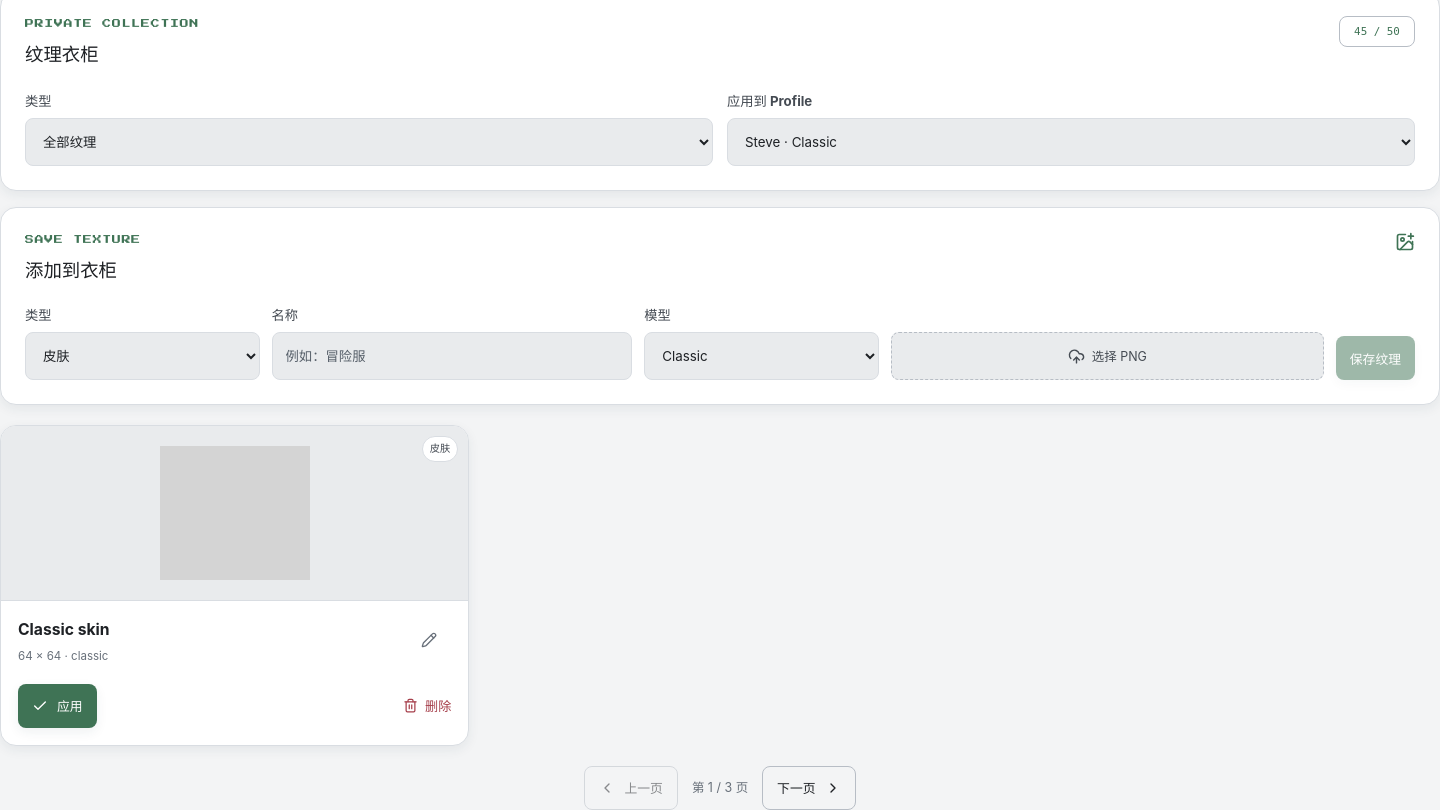
Test: WardrobeView › refreshes the current page after deleting from the middle of a three-page collection
(page scrolled)
Click the button "下一页" at (809, 788), box x1=762 y1=766 x2=856 y2=809
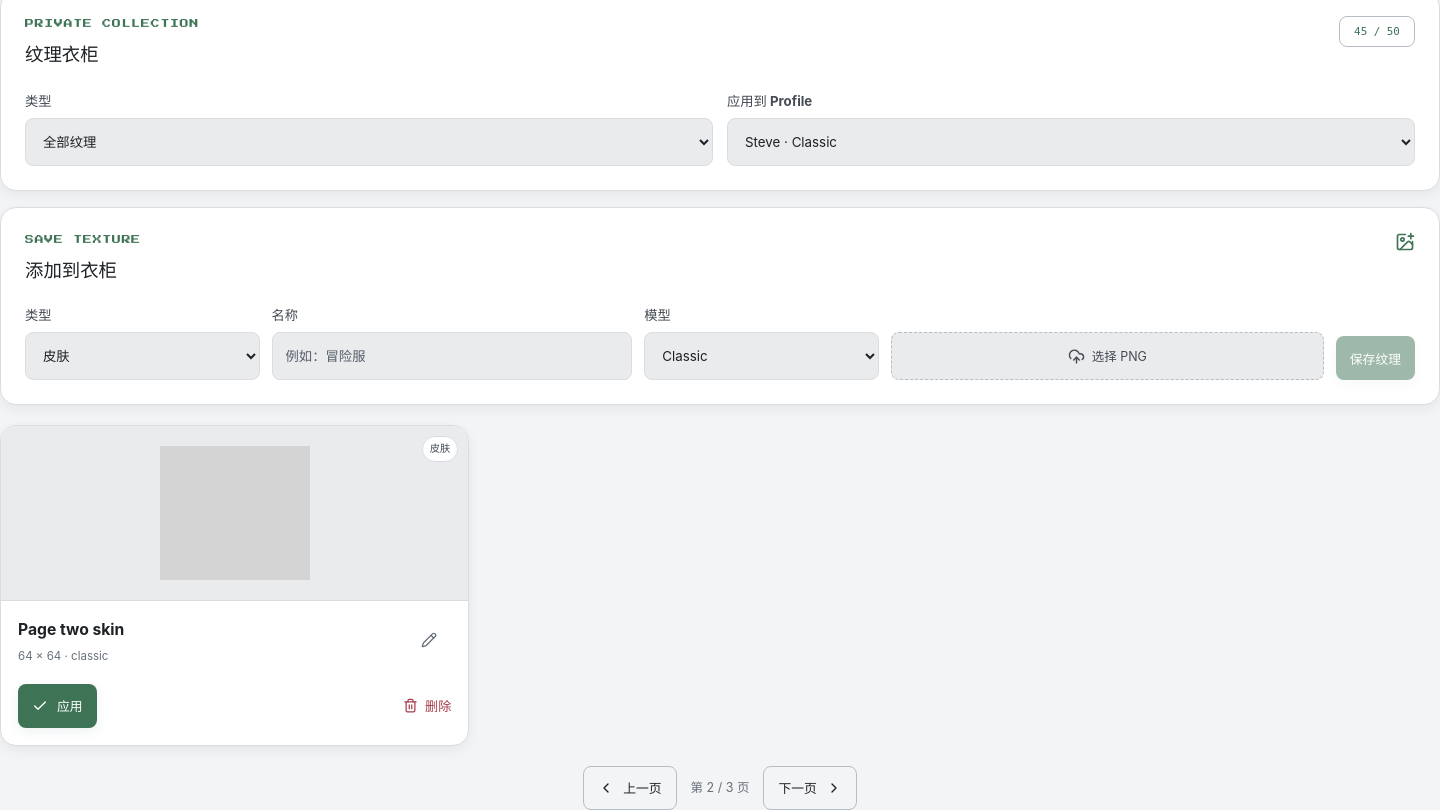
Result: the text "第 2 / 3 页" is shown at x1=691 y1=778 x2=749 y2=797
Click the button "删除" at (427, 706), box x1=403 y1=684 x2=451 y2=728
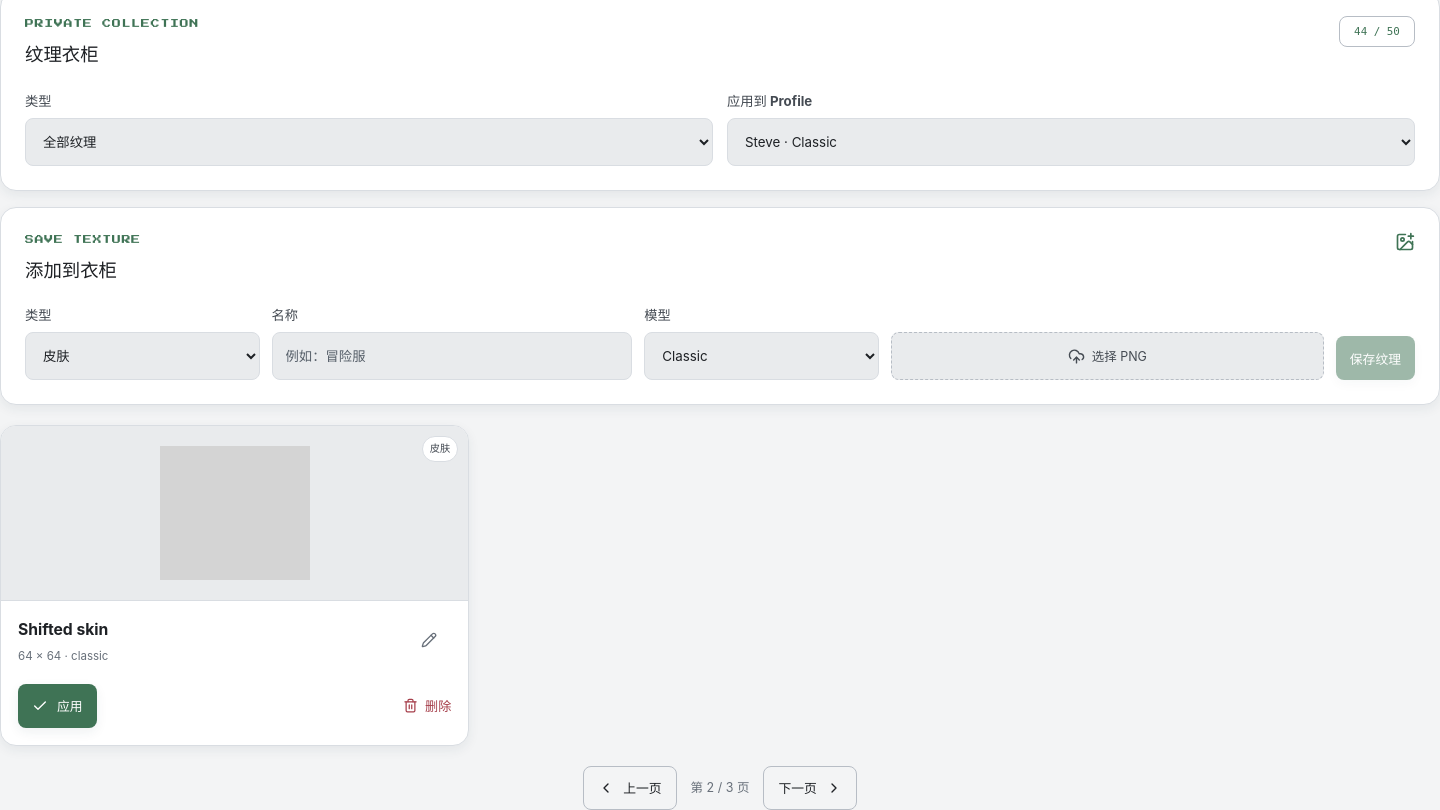
Expected: the element showing "皮肤 Shifted skin 64 × 64 · classic 应用 删除" is shown, x1=0 y1=425 x2=469 y2=746
Result: the text "第 2 / 3 页" is shown at x1=691 y1=778 x2=749 y2=797
Result: the text "44 / 50" is shown at x1=1339 y1=16 x2=1415 y2=47
Click the button "下一页" at (810, 788), box x1=763 y1=766 x2=857 y2=809
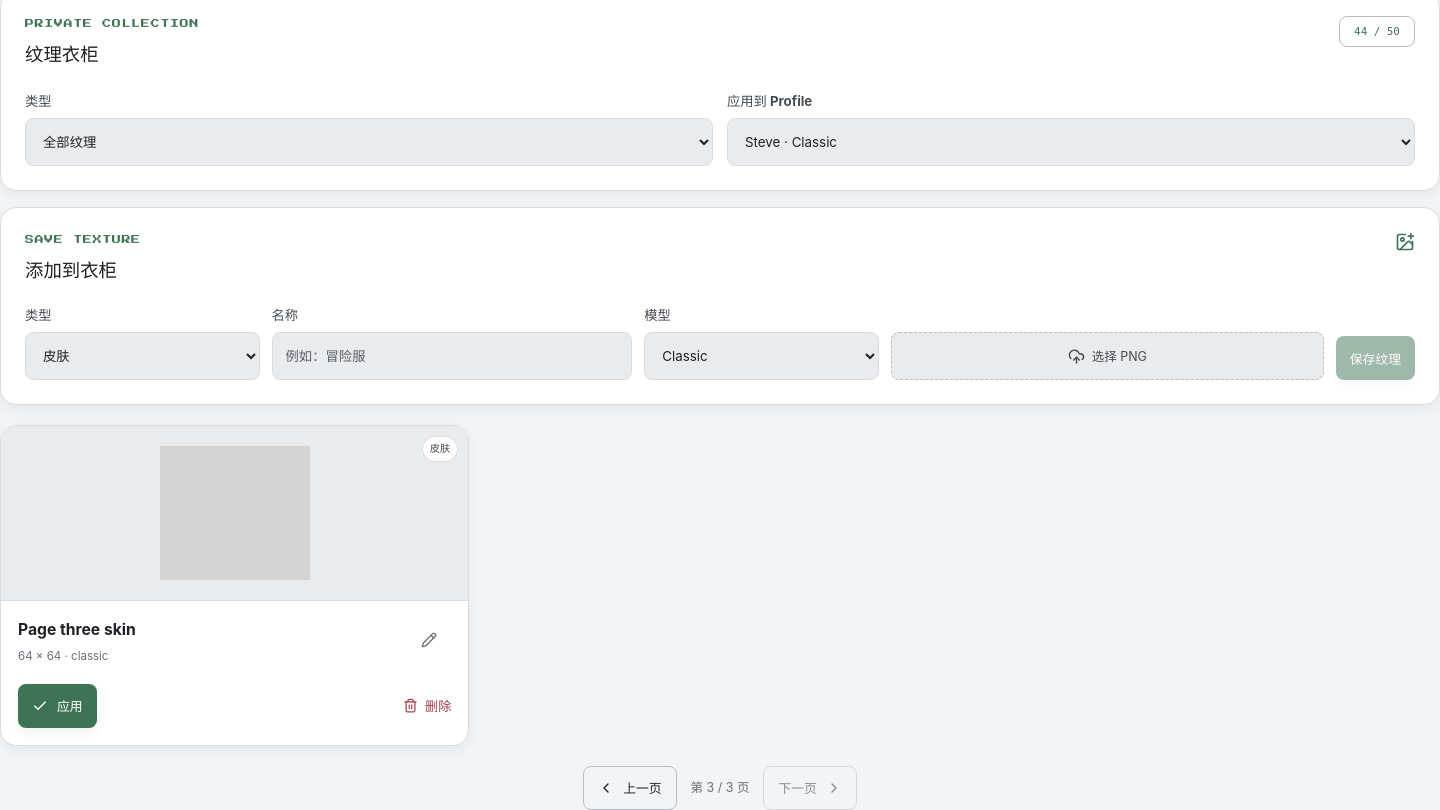
Expected: the element showing "皮肤 Page three skin 64 × 64 · classic 应用 删除" is shown, x1=0 y1=425 x2=469 y2=746
Result: the text "第 3 / 3 页" is shown at x1=691 y1=778 x2=750 y2=797
Click the button "上一页" at (630, 788), box x1=583 y1=766 x2=677 y2=809
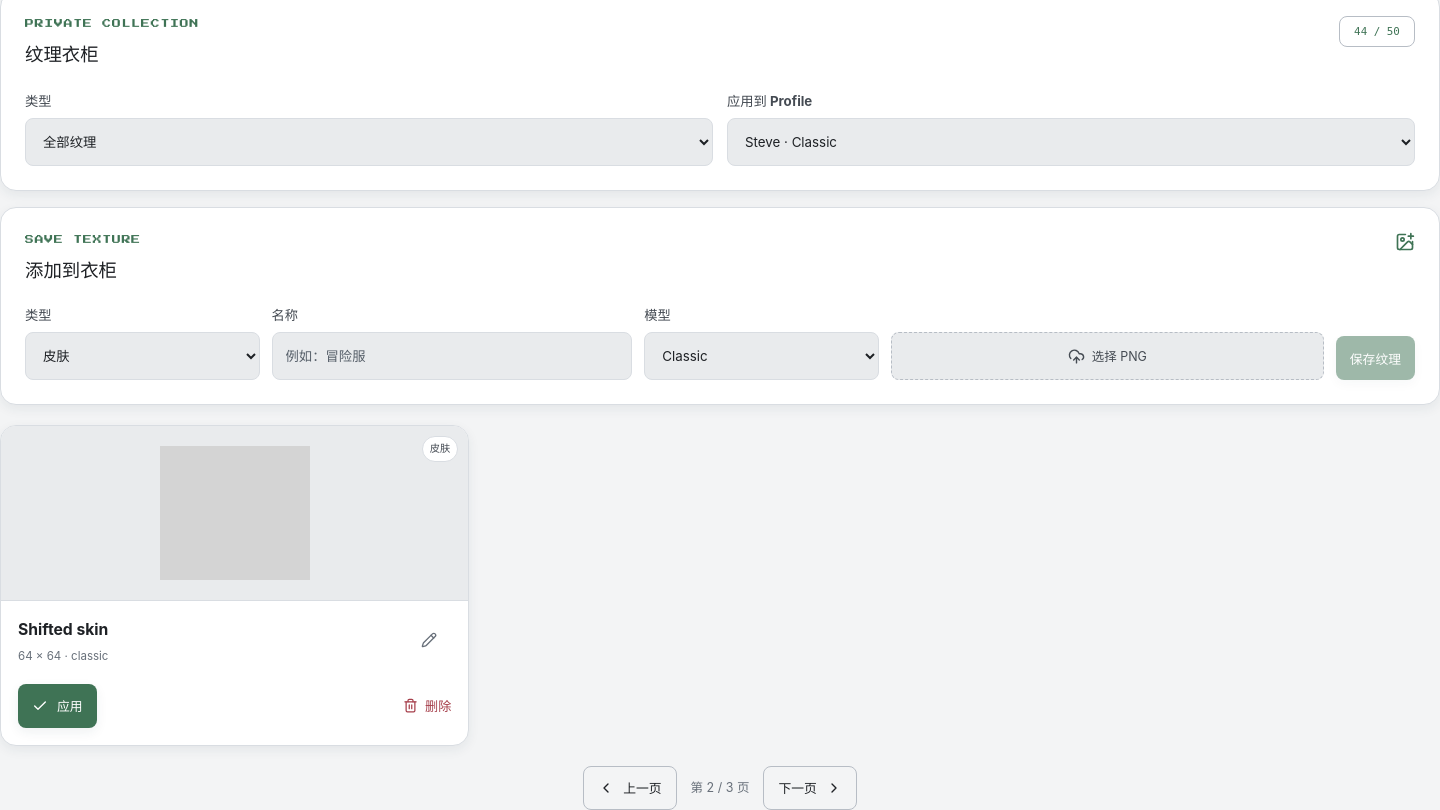
Expected: the element showing "皮肤 Shifted skin 64 × 64 · classic 应用 删除" is shown, x1=0 y1=425 x2=469 y2=746
Result: the text "第 2 / 3 页" is shown at x1=691 y1=778 x2=749 y2=797
